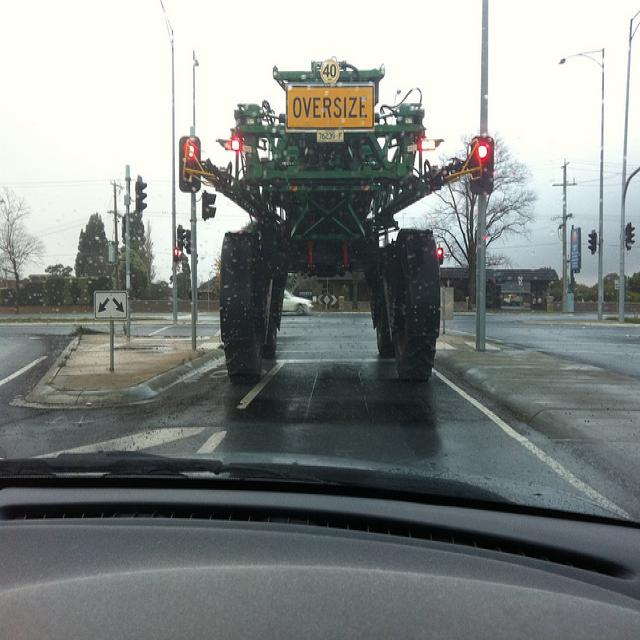Vehicle: (174, 54, 497, 386), (282, 288, 318, 316)
